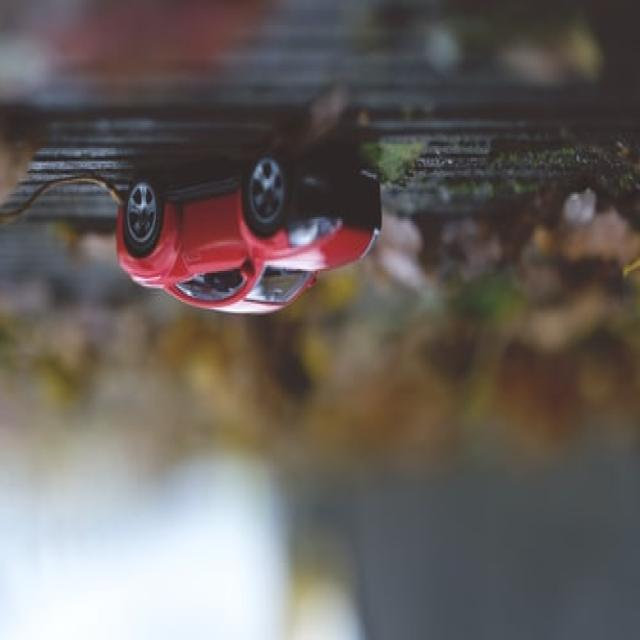Car: (116, 150, 384, 317)
